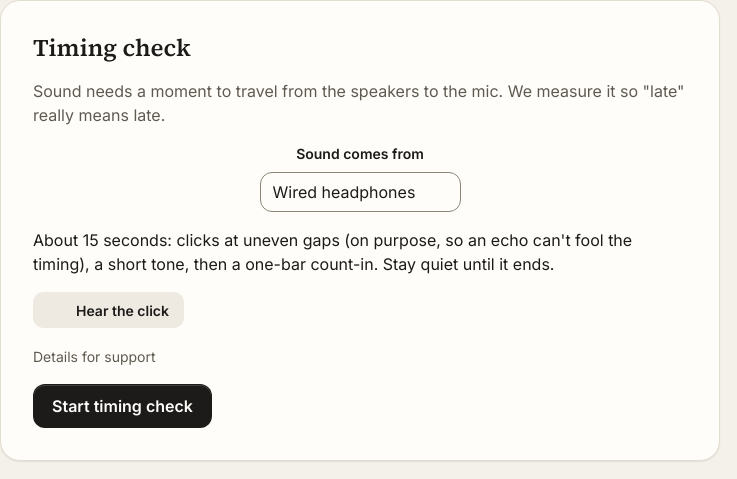
Scenario: CalibrationCard › changing output resets the card and stores the preference
Select "Wired headphones" in the dropdown named "Sound comes from" at coordinates (360, 192), box [260,172,460,212]
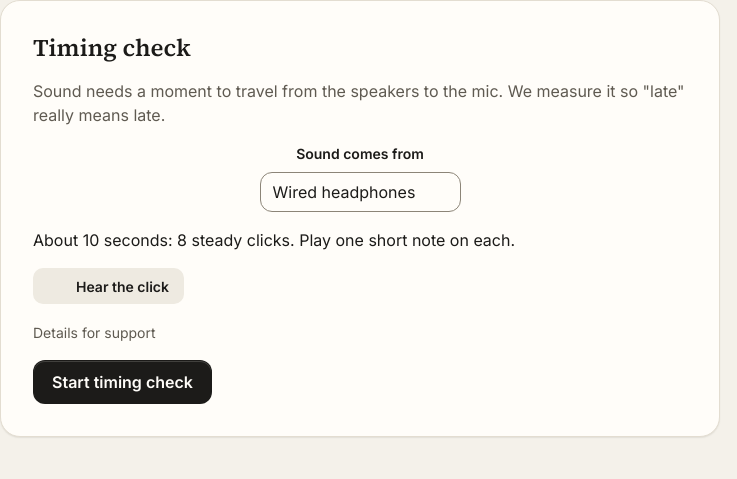
expect the text "8 steady clicks. Play one short note on each." is shown: met, box [33,230,515,250]
